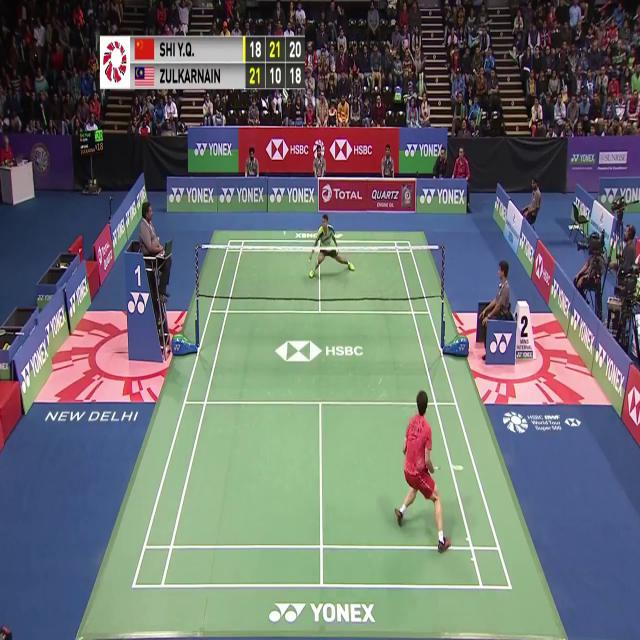Shuttlecock: (281, 227, 288, 239)
